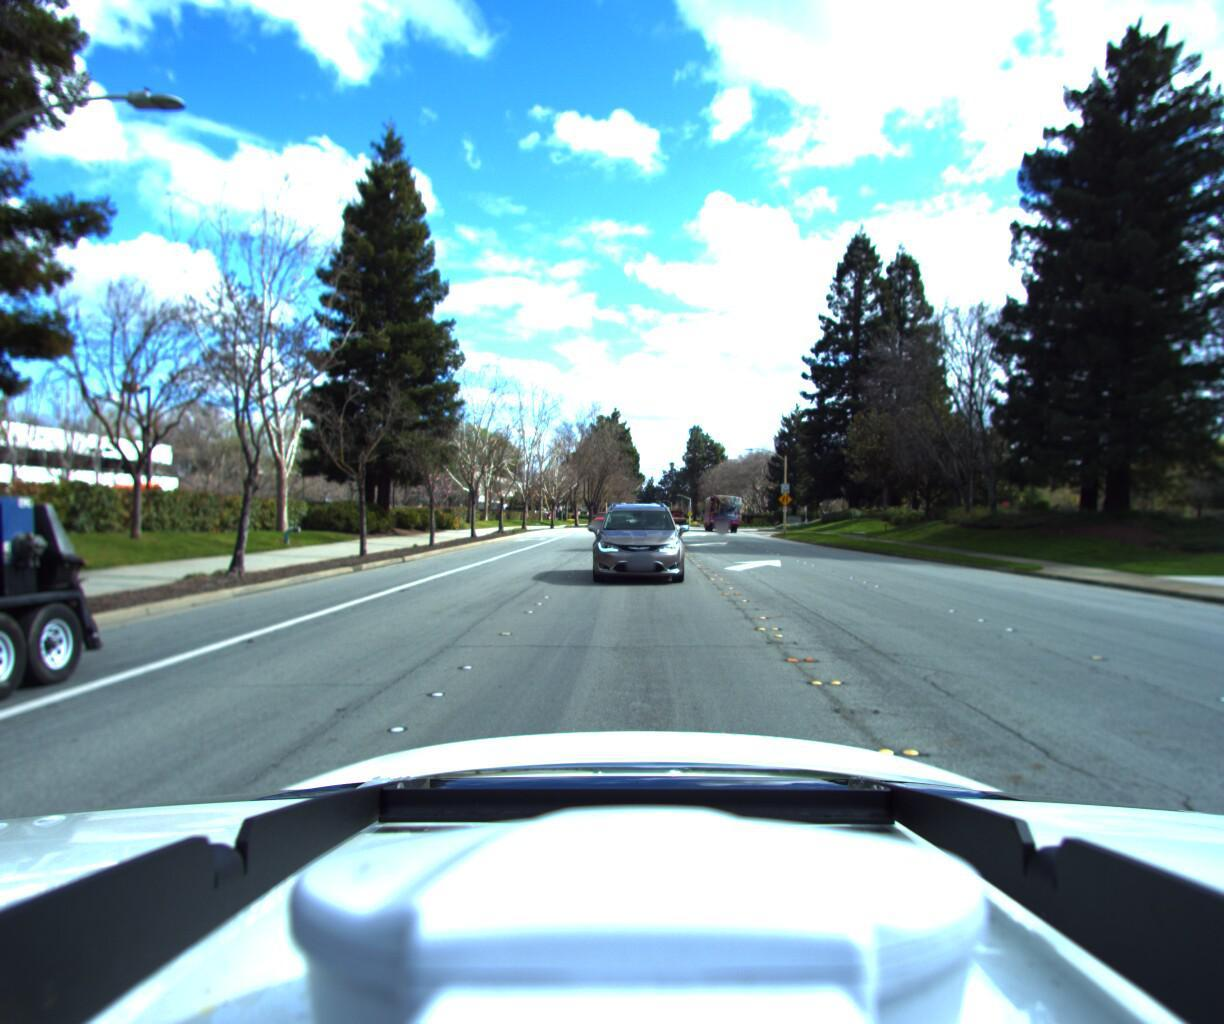bus: (698, 500, 740, 541)
car: (586, 499, 685, 591), (586, 518, 611, 536)
